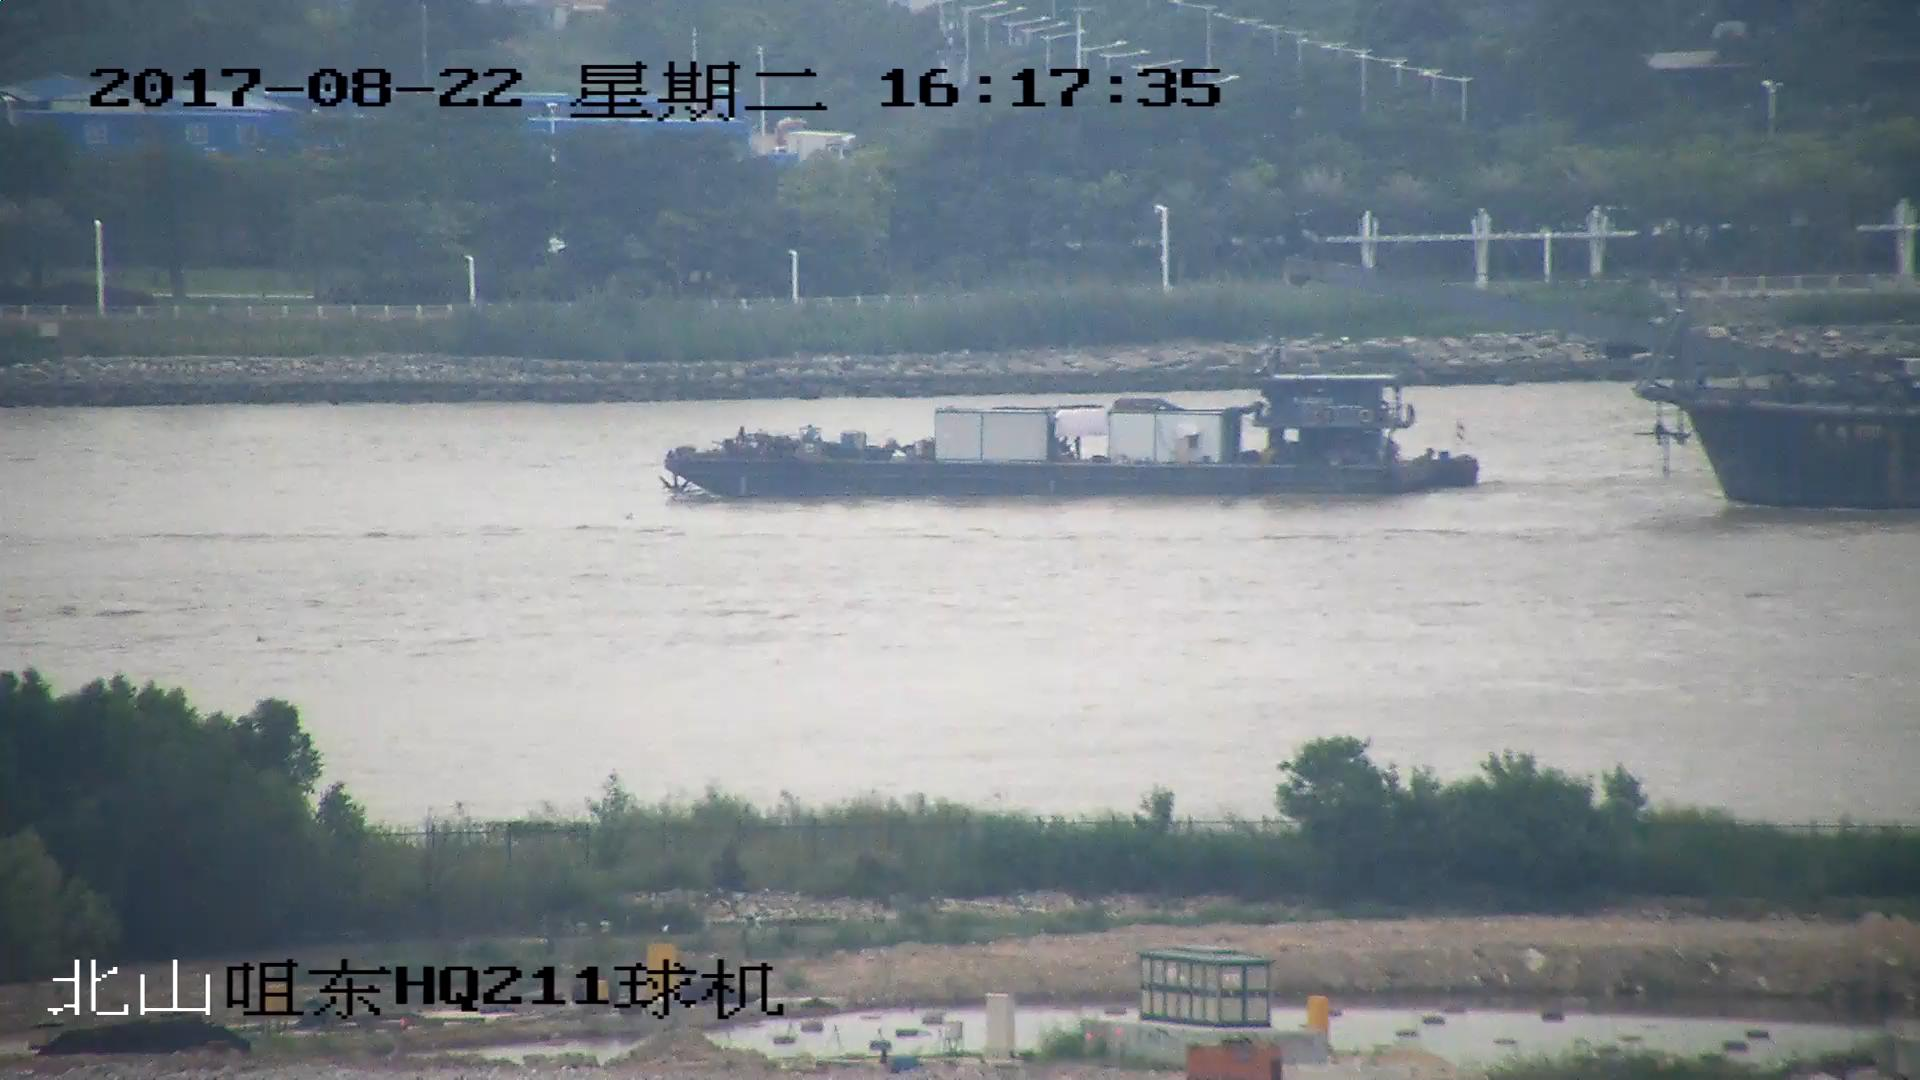bulk cargo carrier: (1297, 259, 1920, 507), (659, 376, 1484, 503)
